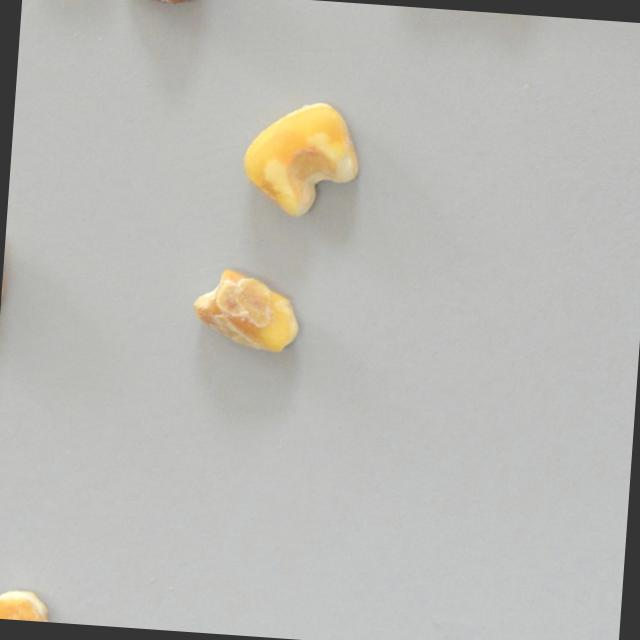dañado: (235, 94, 365, 222), (187, 261, 305, 360), (0, 584, 59, 622)
